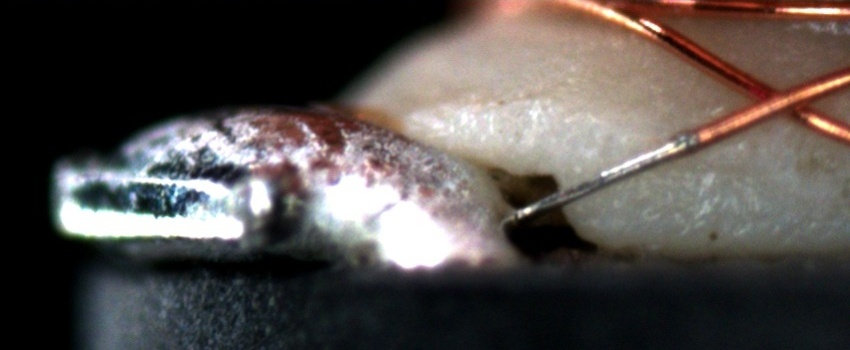CL: (730, 68, 830, 130)
DL: (623, 154, 748, 196)
TS: (514, 132, 698, 217)
